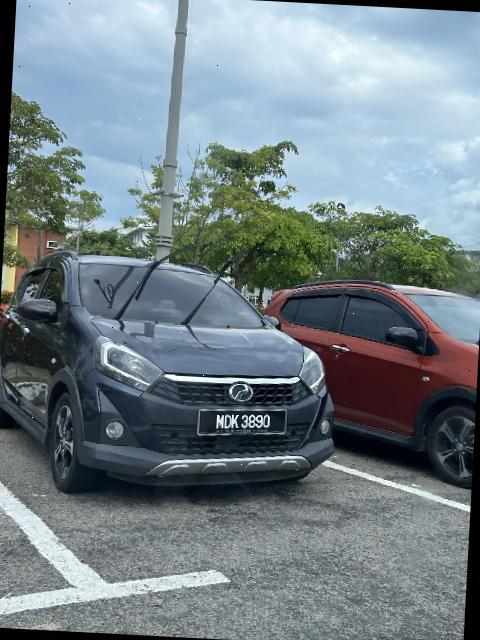License_Plate: (196, 408, 292, 446)
MDK3890: (196, 408, 292, 446)
car: (1, 246, 351, 512), (257, 272, 480, 484)
